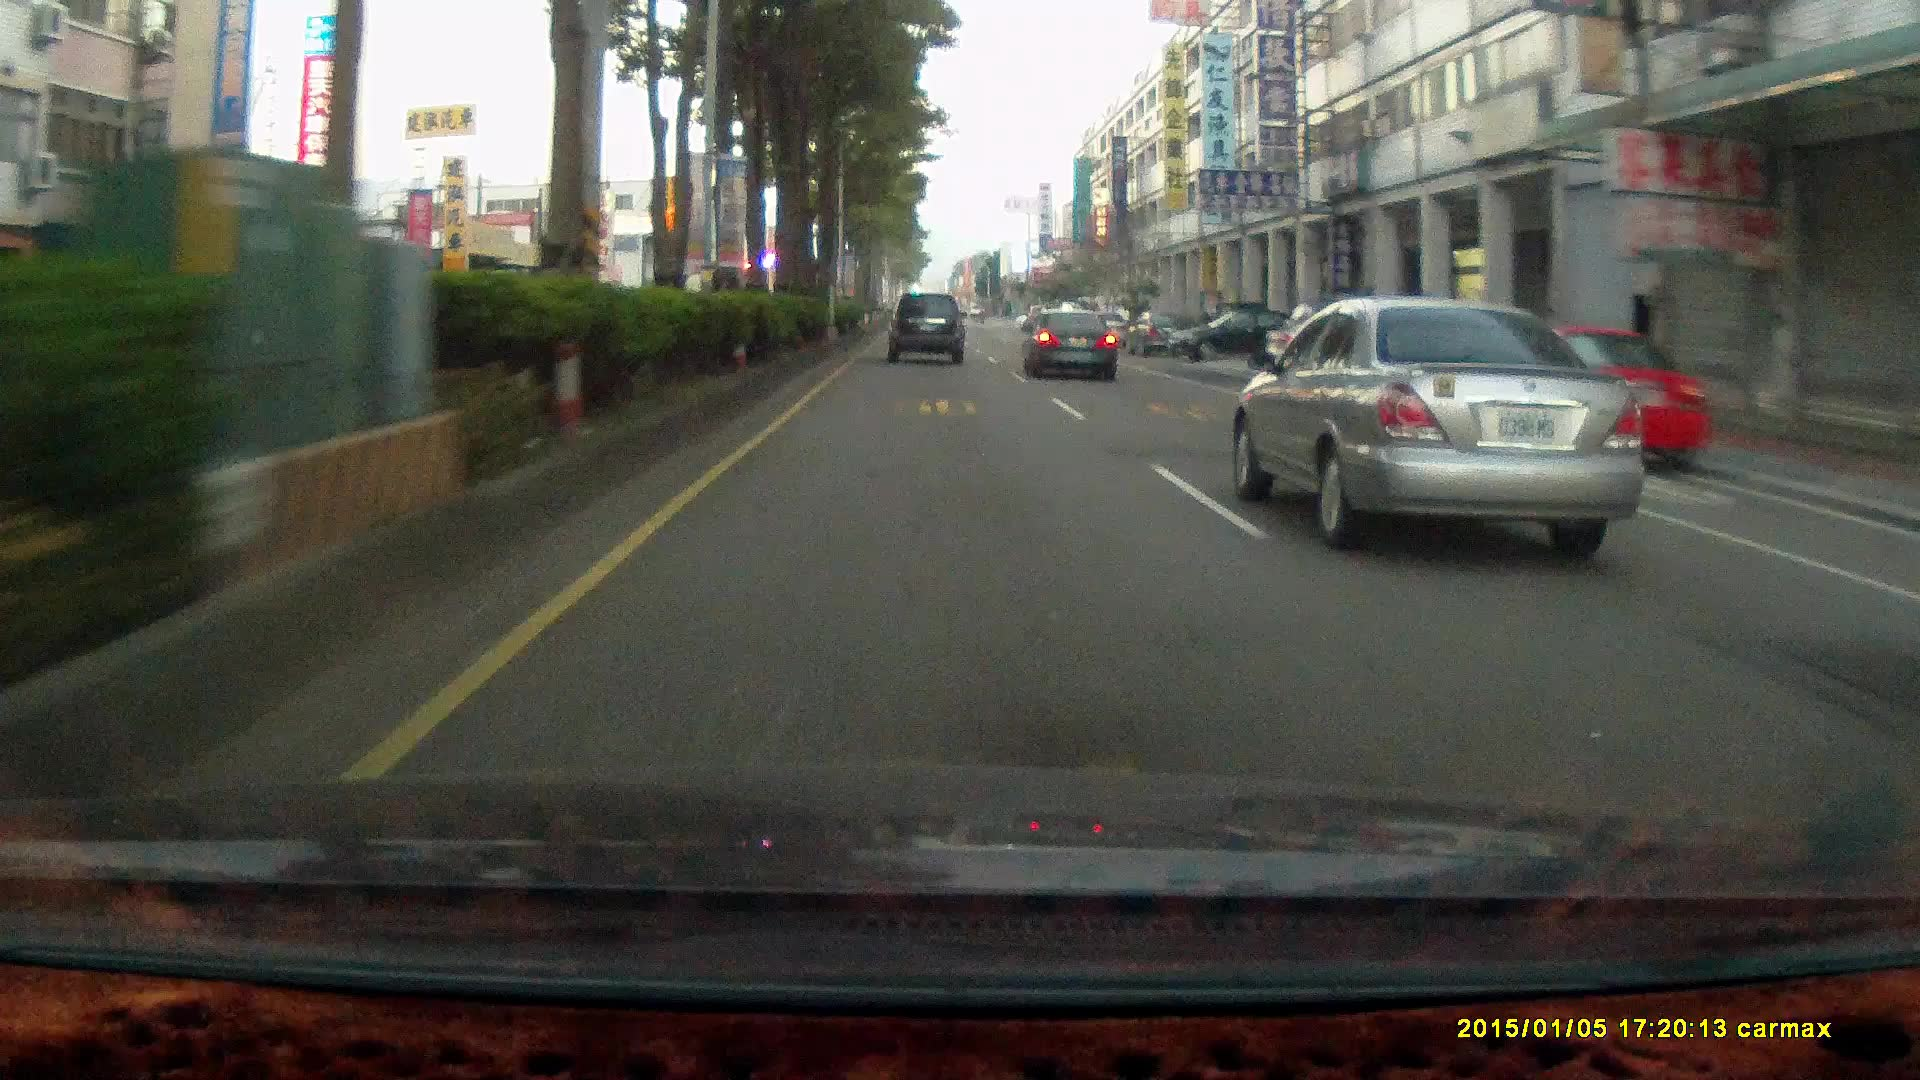vehicle: (1226, 286, 1665, 546), (1453, 324, 1710, 473), (1491, 318, 1716, 480), (1163, 306, 1307, 361), (1021, 309, 1120, 382), (1021, 306, 1117, 381), (886, 291, 971, 367), (884, 290, 967, 363), (1124, 309, 1192, 357)
